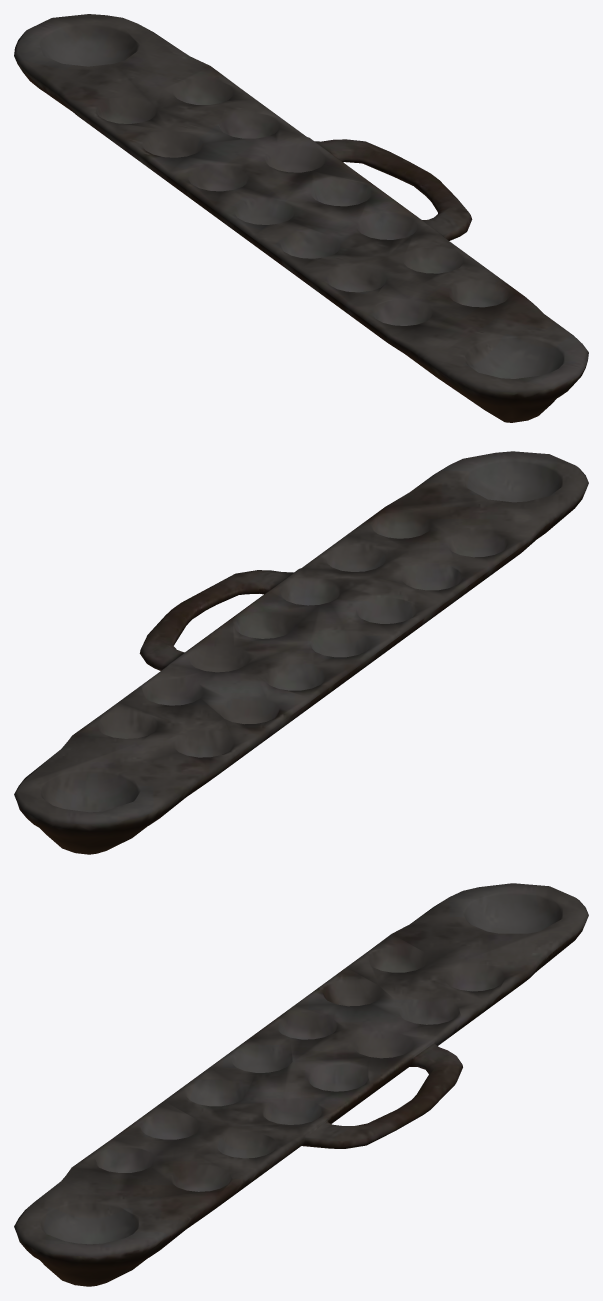
The model's file is sungka_board.glb.
The picture shows the model from 3 angles, top to bottom: view 1: azimuth 30°, elevation 25°; view 2: azimuth 150°, elevation 25°; view 3: azimuth 330°, elevation 25°; orthographic projection.
Visible parts, largest first — view 1: sungka_board; view 2: sungka_board; view 3: sungka_board.
Boxes of the visible parts, bbox=[...] form: sungka_board: bbox=[14, 14, 588, 422]; sungka_board: bbox=[14, 451, 588, 854]; sungka_board: bbox=[14, 883, 588, 1286].
Size of the model in its own units: 0.14 by 0.0352 by 0.6006.
Materials: 1 (1 with a texture image).
